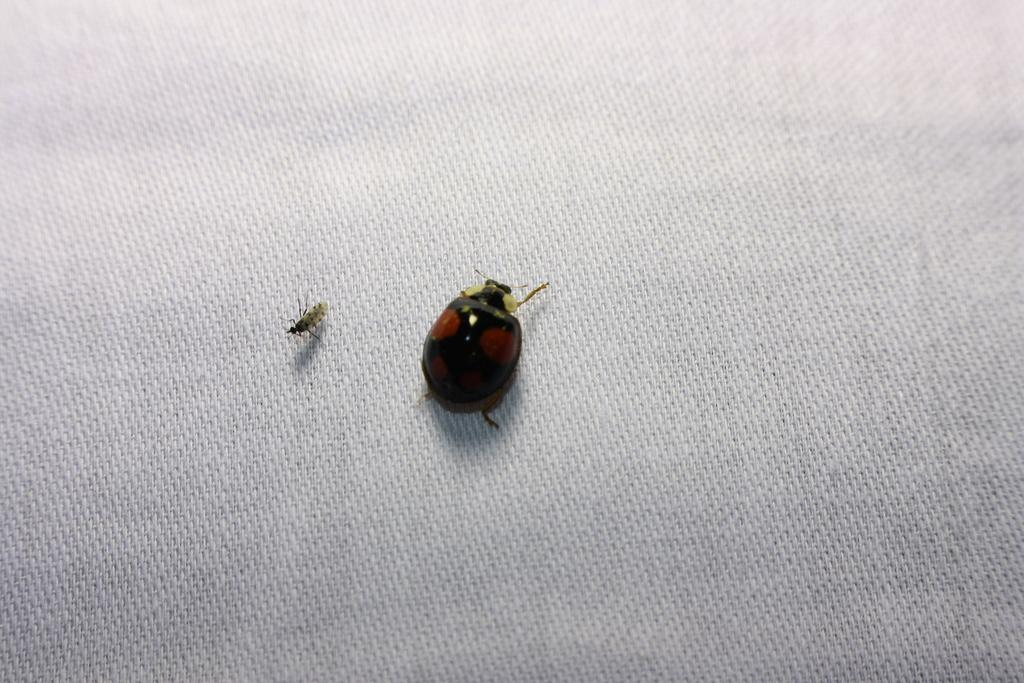ladybug: (419, 267, 555, 433)
